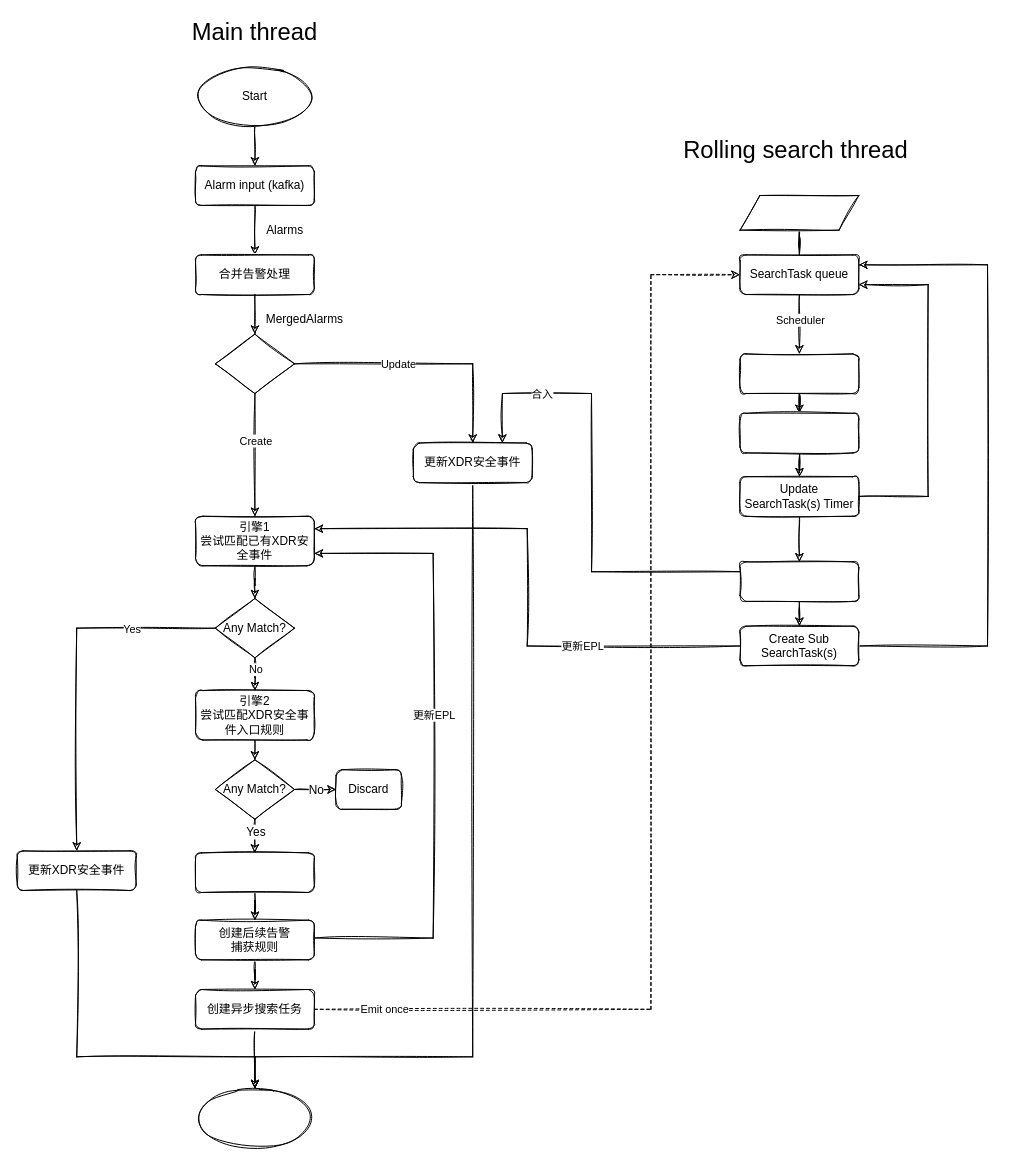
Image size: 1013x1165. Some labels were removed from this diagram. Each missing label, with the box of its shape:
Apply SearchTask(s): (739, 412, 859, 453)
End: (195, 1088, 314, 1148)
Fetch SearchTask(s) by timer: (739, 353, 859, 394)
On Creation?: (214, 333, 295, 394)
SearchTask(s): (739, 195, 859, 230)
创建XDR安全事件: (195, 852, 314, 892)
搜索到的合并告警/日志: (739, 561, 859, 601)
